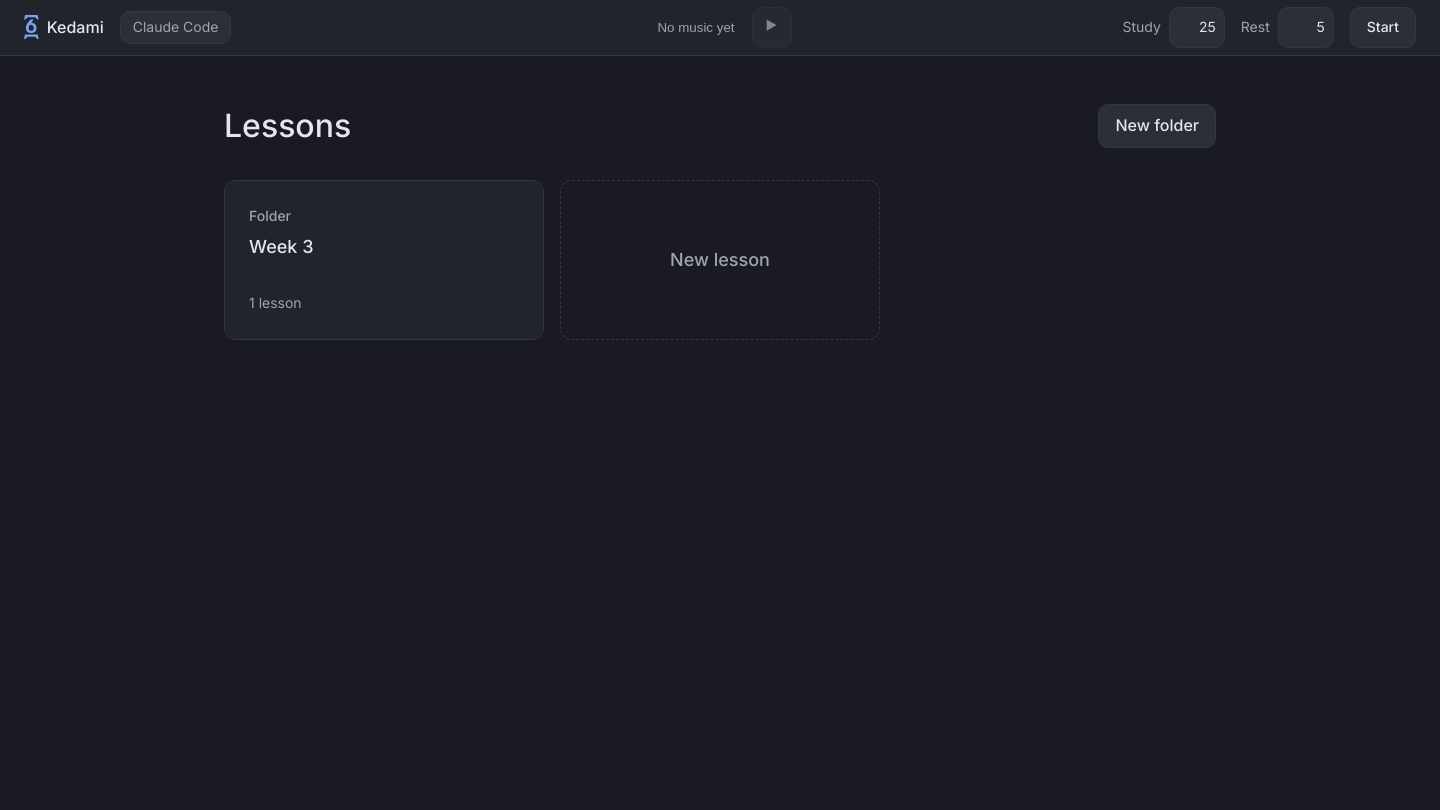
Test case: Terminal panel › opens beside the current screen, which stays usable, and closes again
Click the button with class "tile" showing "Folder Week 3 1 lesson" at (270, 215), box [224,180,544,340]
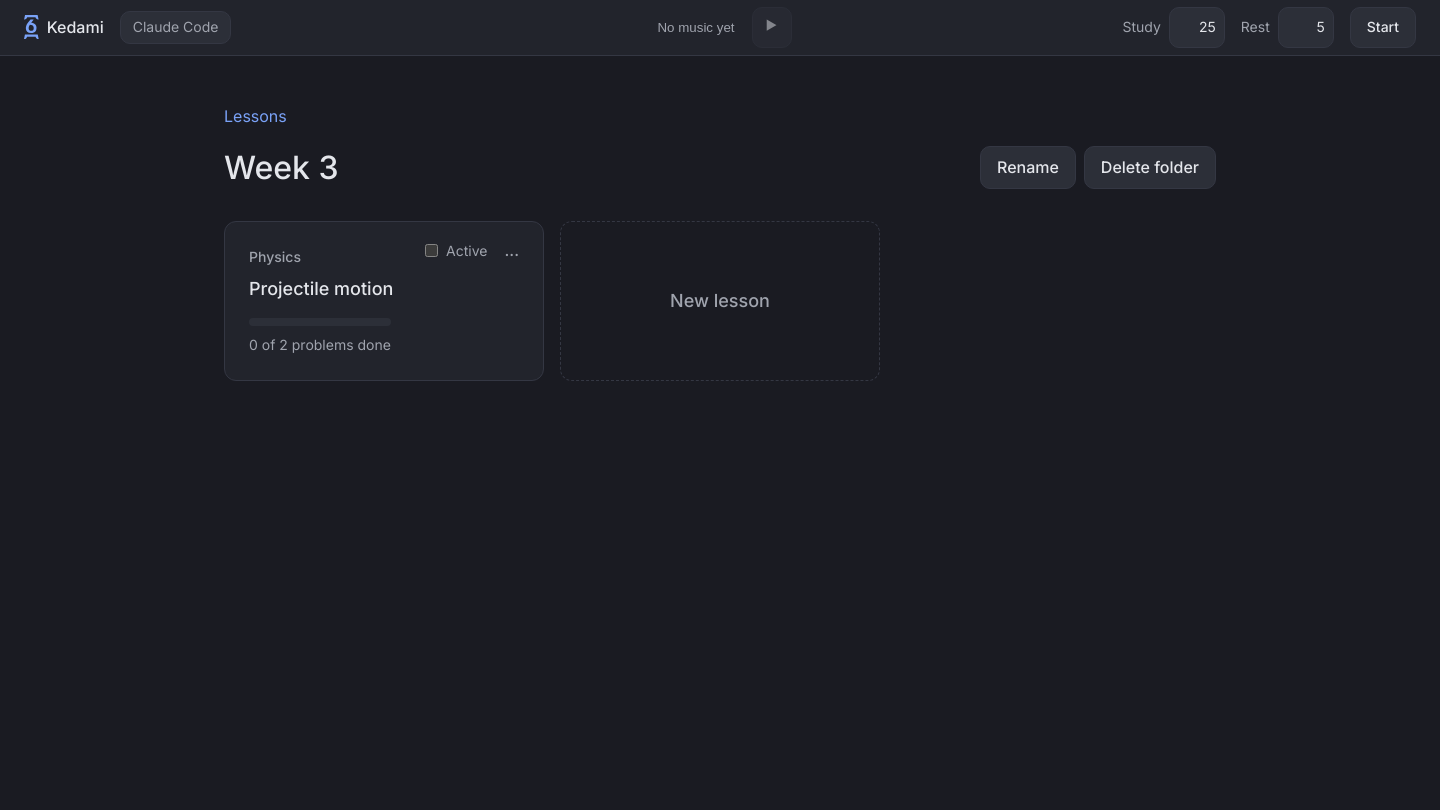
Click the button "Claude Code" at (176, 28), box [120,11,232,44]
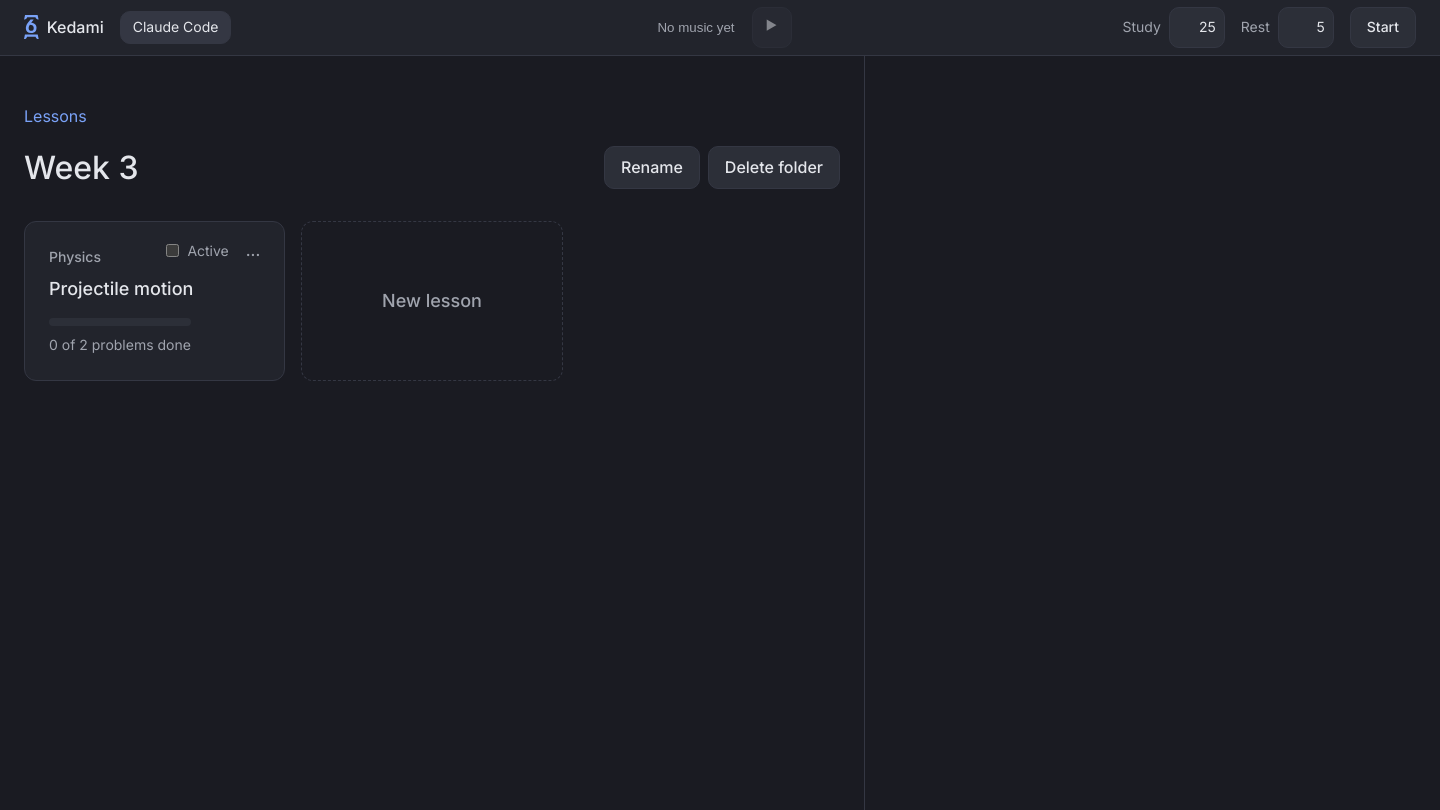
Expected: the element with class "terminal-panel" is shown, [864,56,1439,809]
Click the button "Claude Code" at (176, 28), box [120,11,232,44]
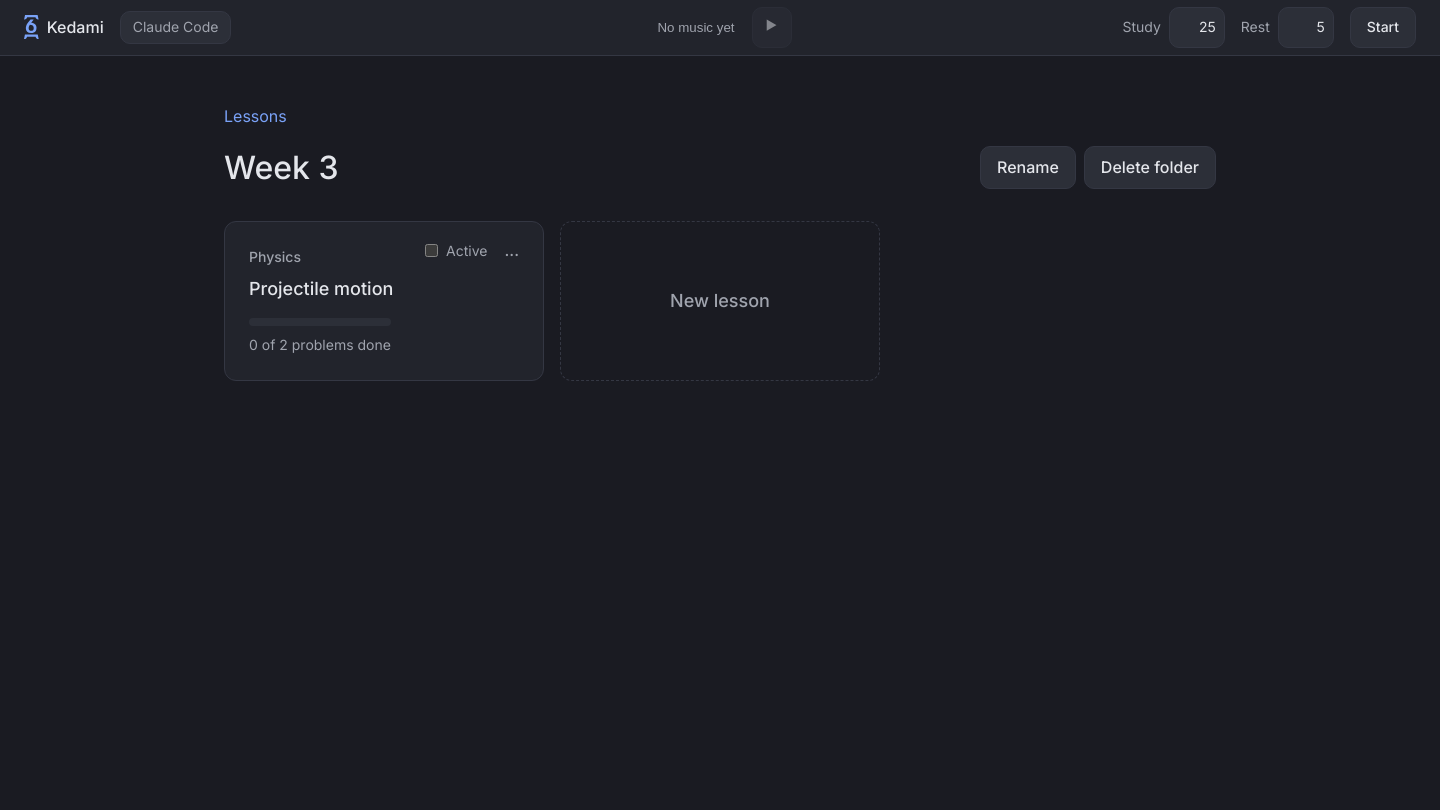
Expected: the heading "Week 3" is shown, [224,147,339,188]
Expected: the element with class "terminal-panel" is gone
